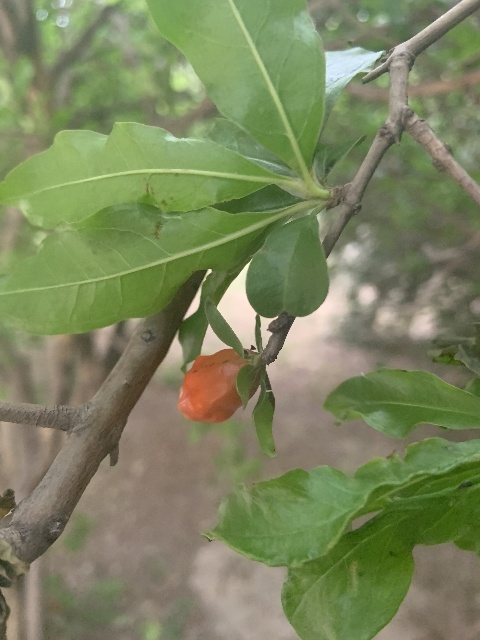bud: (177, 348, 258, 423)
